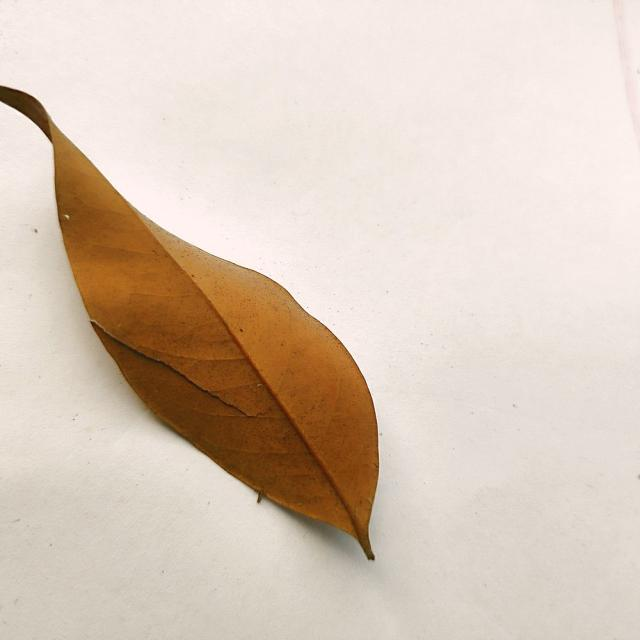Dry_Leaf-Lychee: (0, 87, 380, 561)
